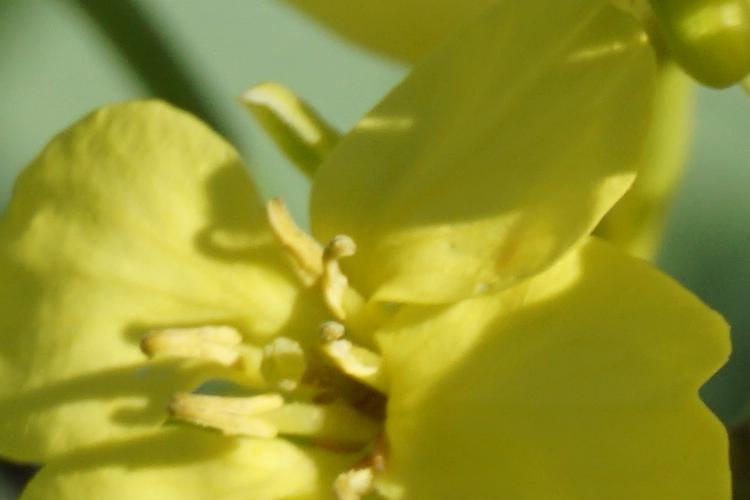yellow: (3, 38, 728, 500)
